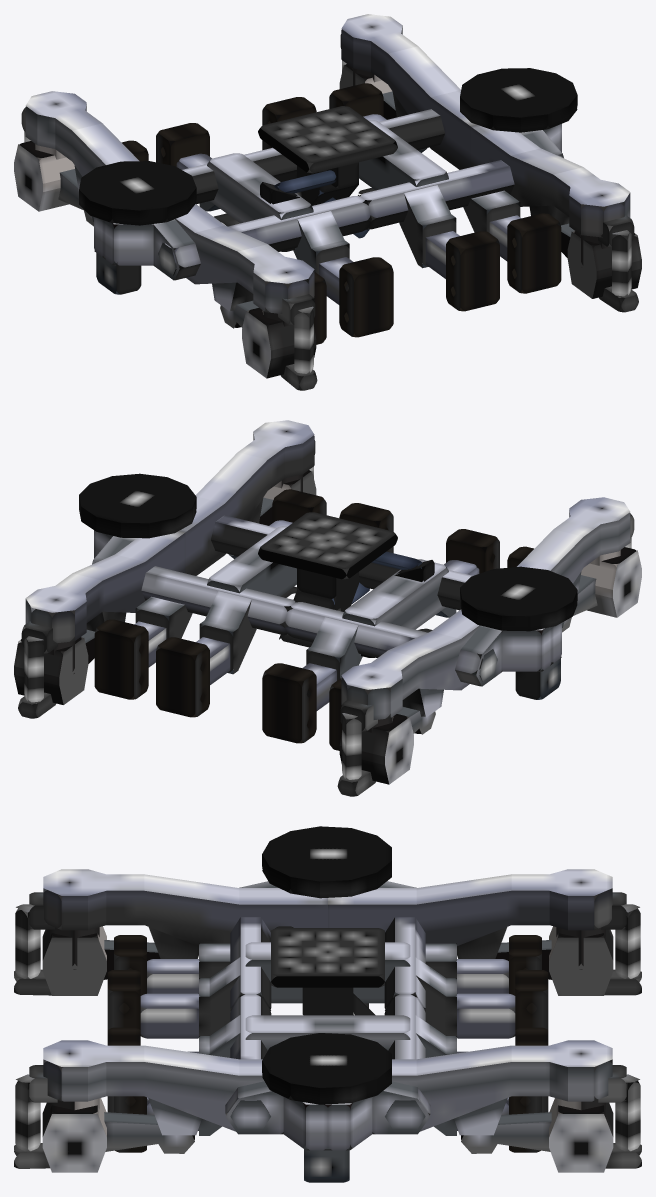
File: frame.obj
3 renders of one model, top to bottom at view 1: azimuth 30°, elevation 25°; view 2: azimuth 150°, elevation 25°; view 3: azimuth 270°, elevation 25°, orthographic. The views are drawn at different scales.
Parts seen in each view (by area): view 1: frame, air_spring_right_cap, air_spring_left_cap; view 2: frame, air_spring_right_cap, air_spring_left_cap; view 3: frame, air_spring_left_cap, air_spring_right_cap.
Part boxes in pixels (x1,y1,x2,y2): frame: (14,14,641,390); air_spring_right_cap: (460,68,577,117); air_spring_left_cap: (79,161,196,210); frame: (14,420,641,796); air_spring_right_cap: (79,473,196,523); air_spring_left_cap: (460,566,577,616); frame: (14,854,641,1182); air_spring_left_cap: (262,826,391,881); air_spring_right_cap: (262,1033,391,1087).
Bounding box in the file's own units: 3.06 × 0.6875 × 3.1.
